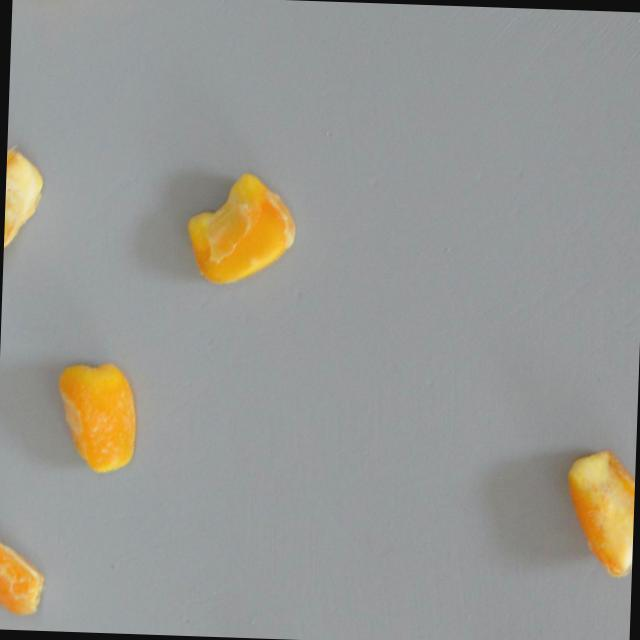pelicula: (179, 169, 297, 287), (556, 448, 636, 578), (52, 357, 137, 475), (2, 143, 44, 264), (0, 523, 44, 616)
